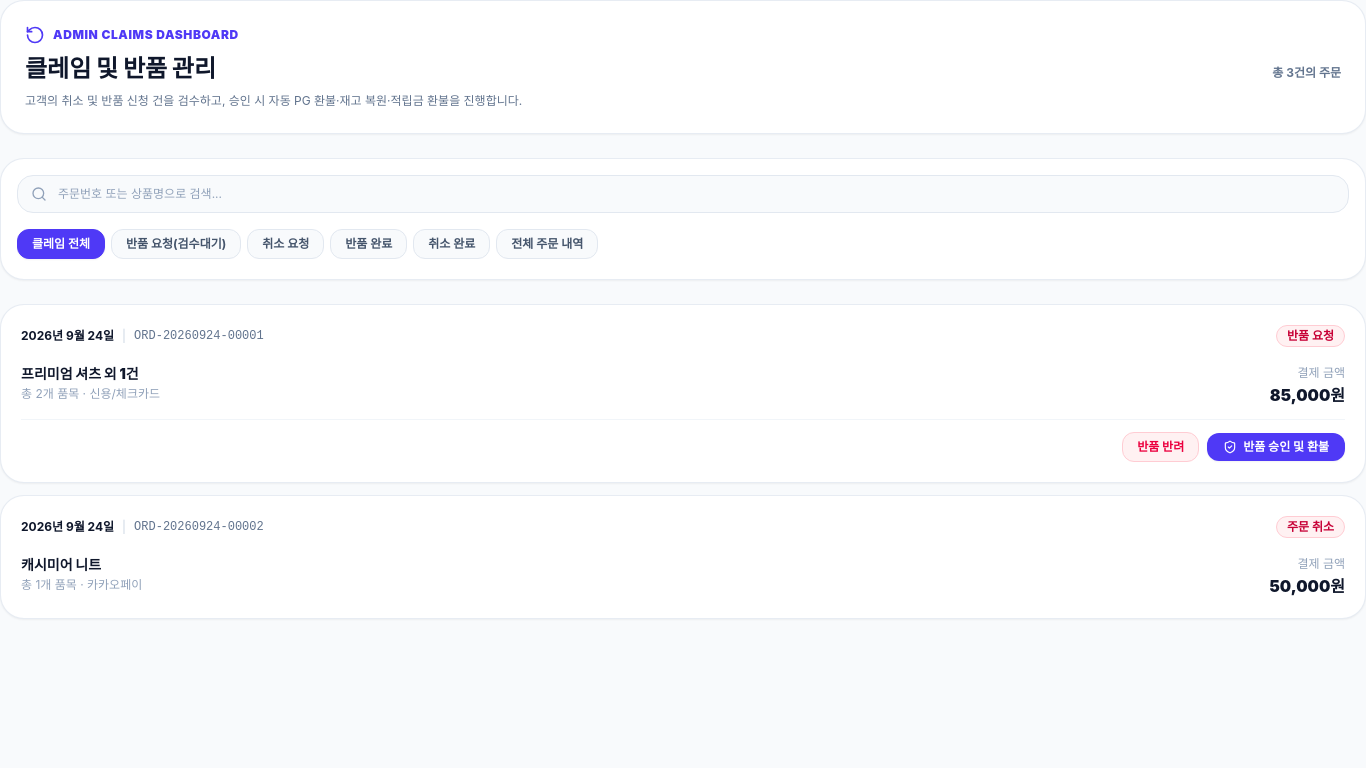
Scenario: AdminClaimsViewer Component › 반품 요청 주문에 대해 반품 승인 모달을 열고 승인을 실행하면 상태가 RETURNED로 업데이트된다
Click the button "반품 승인 및 환불" at coordinates (1276, 447), box [1207, 433, 1345, 461]
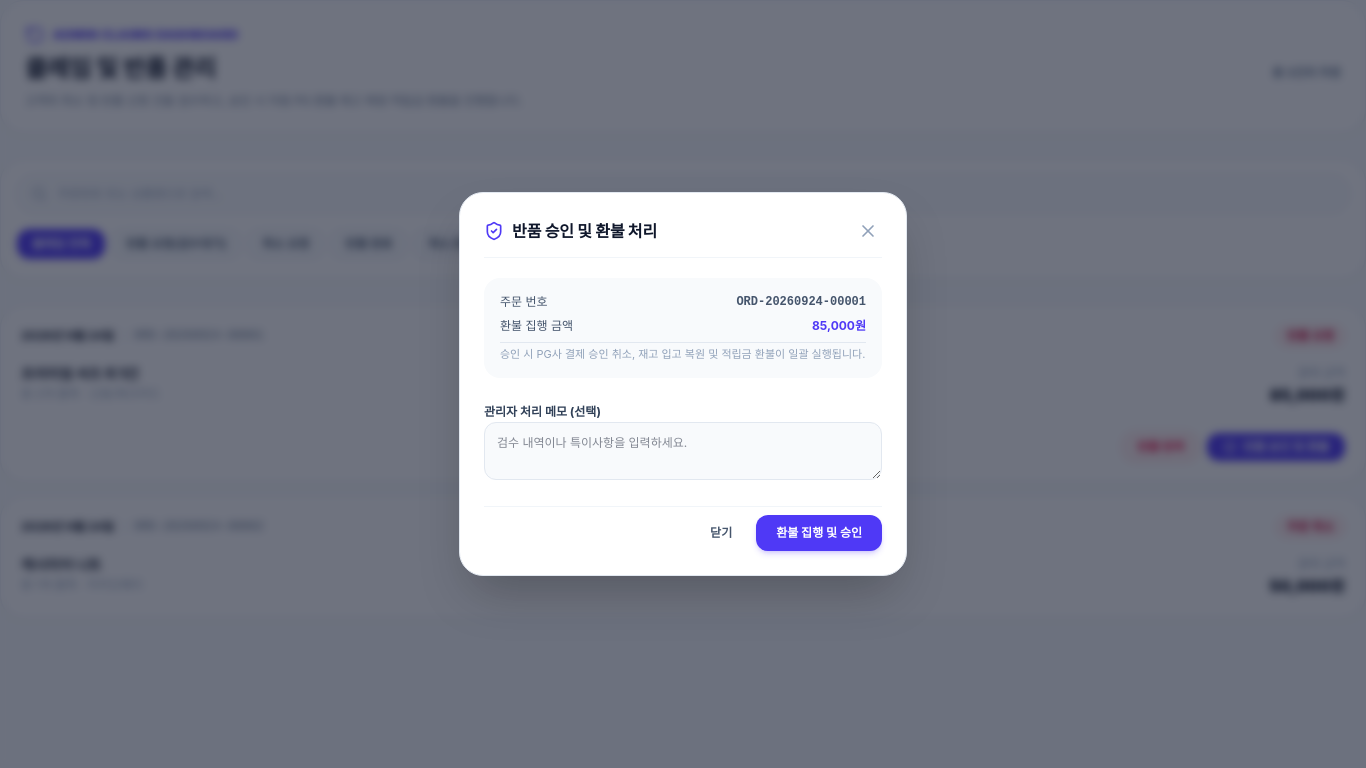
expect the heading "반품 승인 및 환불 처리" is shown: met, box [512, 219, 657, 243]
Note: 승인 확정 버튼 클릭
Click the button "환불 집행 및 승인" at coordinates (819, 533), box [756, 515, 882, 551]
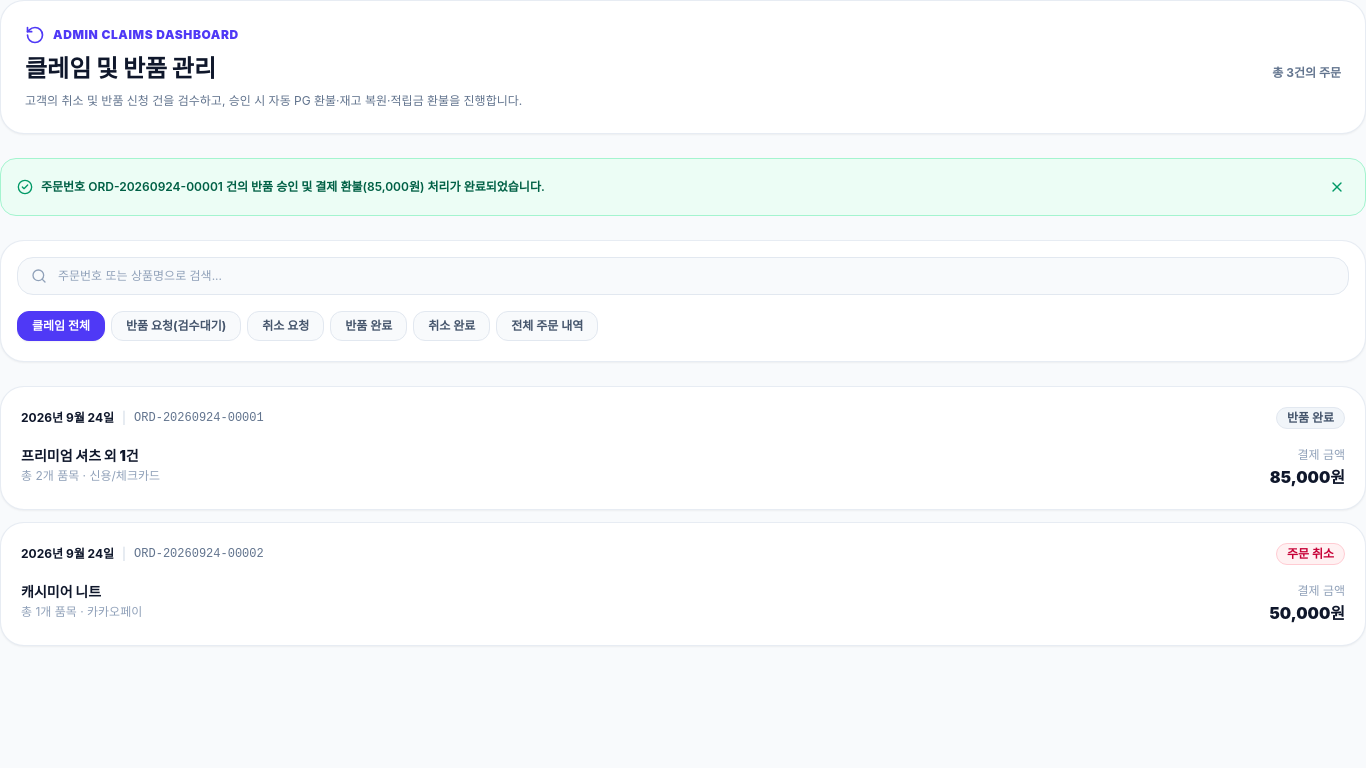
expect the text "반품 승인 및 결제 환불" is shown: met, box [41, 179, 545, 194]
